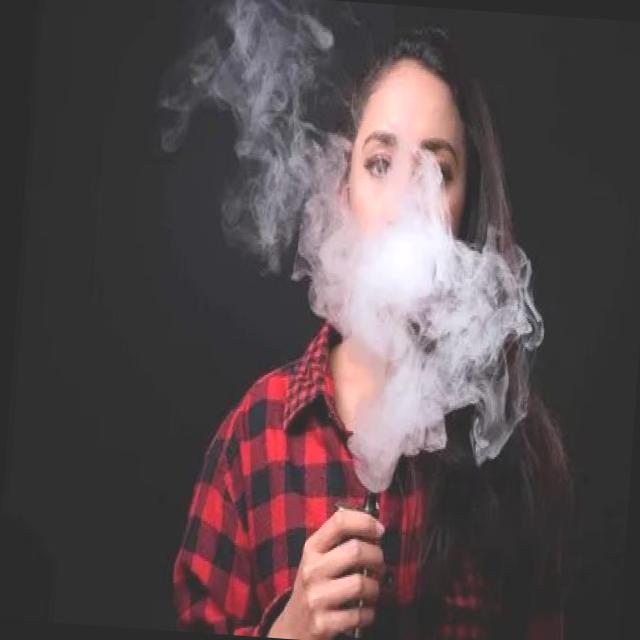cigarette: (326, 481, 384, 640)
